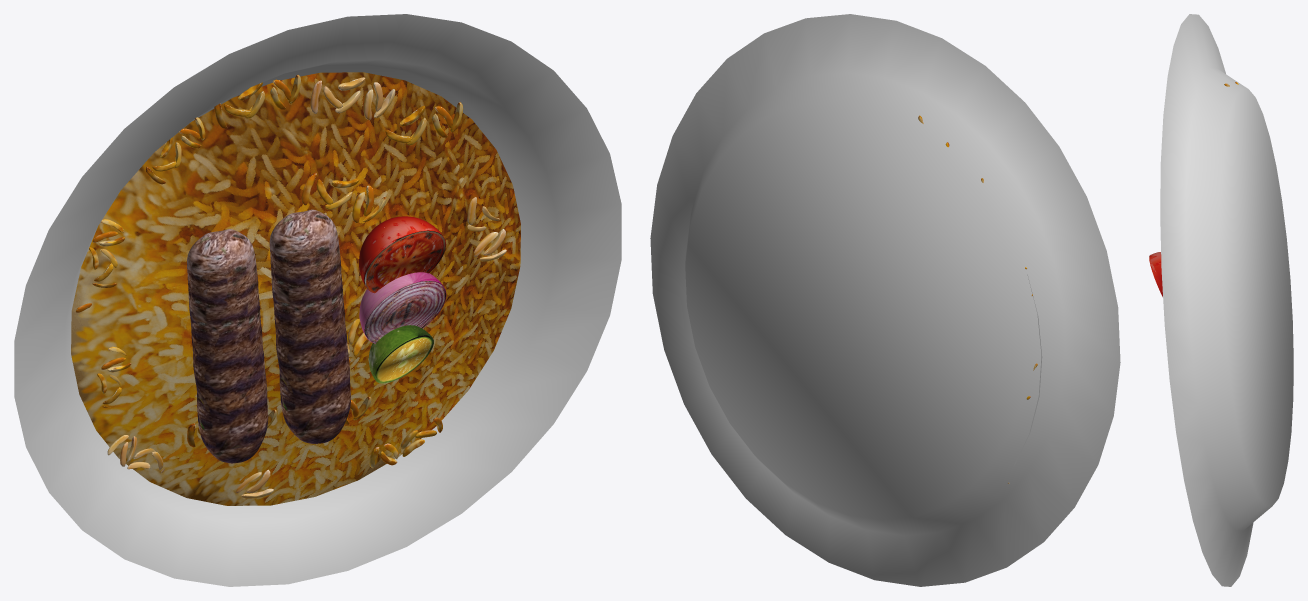
File: kababrice-v12.glb
3 views of the same model, side by side, from view 1: azimuth 30°, elevation 25°; view 2: azimuth 150°, elevation 25°; view 3: azimuth 270°, elevation 25° (orthographic). The views are drawn at different scales.
Parts seen in each view (by area): view 1: Circle.002, Cone, Cylinder.002, Cylinder.003, Sphere.008, Sphere.012, Sphere.011, Plane.006, Sphere.010, Plane.029, Plane.023, Sphere.009 (+7 smaller); view 2: Circle.002; view 3: Circle.002, Sphere.011.
Part boxes in pixels (box(x1,y1,x2,y2)): Circle.002: box(14, 14, 621, 586); Cone: box(71, 72, 520, 505); Cylinder.002: box(187, 229, 268, 463); Cylinder.003: box(269, 209, 350, 443); Sphere.008: box(364, 281, 445, 343); Sphere.012: box(364, 230, 445, 292); Sphere.011: box(359, 216, 446, 293); Plane.006: box(310, 77, 395, 120); Sphere.010: box(375, 335, 432, 382); Plane.029: box(301, 172, 386, 222); Plane.023: box(214, 75, 301, 128); Sphere.009: box(368, 325, 433, 383); Circle.002: box(650, 14, 1120, 586); Circle.002: box(1160, 14, 1293, 586); Sphere.011: box(1149, 252, 1162, 296).
Size of the model in its own units: 9.3 by 9.3 by 2.35.
Materials: 25 (24 with a texture image).
